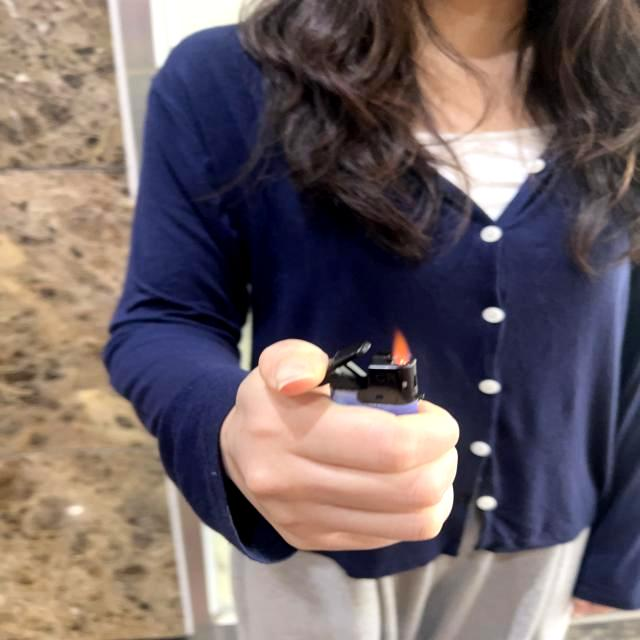fire: (390, 330, 410, 370)
